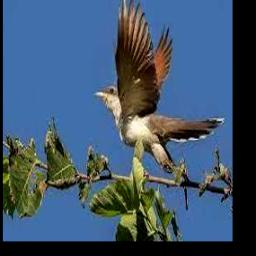Cuckoo: (93, 0, 225, 170)
